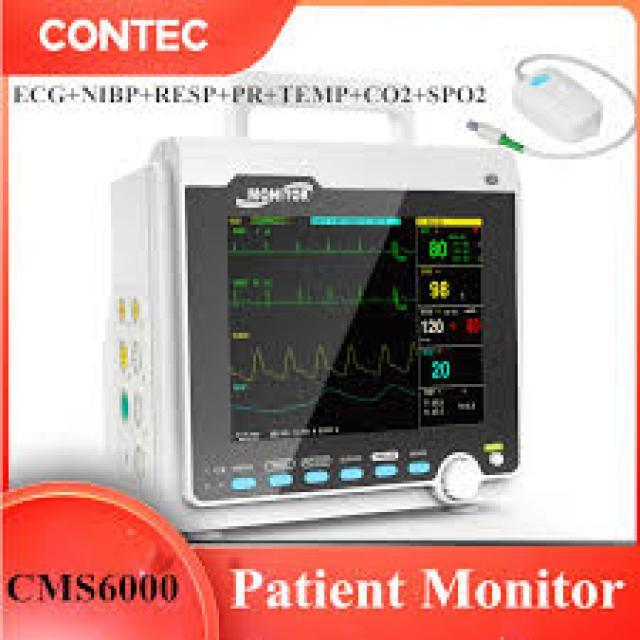cardiac_monitor: (173, 151, 530, 494)
